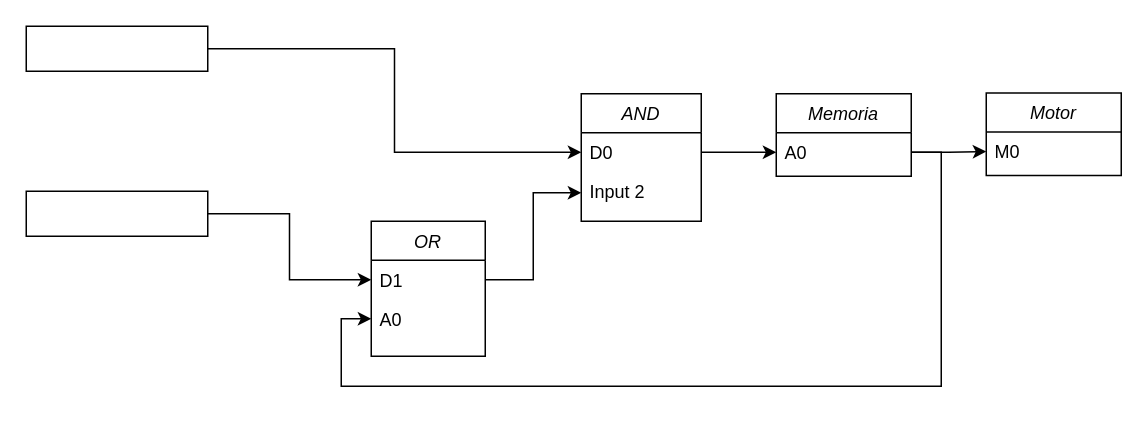
This 1148x425 diagram has some shape labels left out. Here are the shapes that lost their labels. From the top down, the centre of each, then its label:
At point (116, 48): "Sensor D0 - NC".
At point (116, 213): "Sensor D1 - NC".
